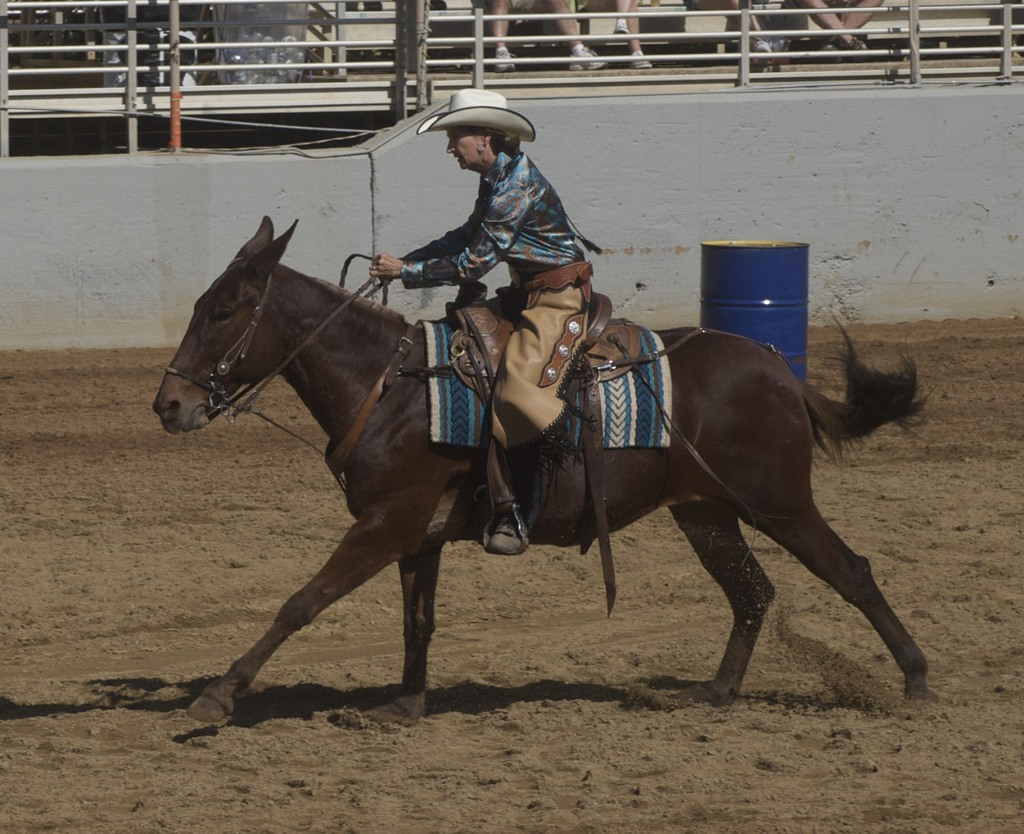horse: (152, 214, 936, 728)
